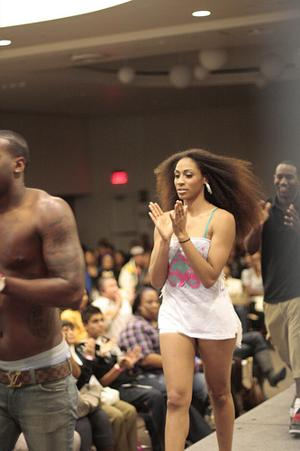person: (148, 149, 245, 451)
